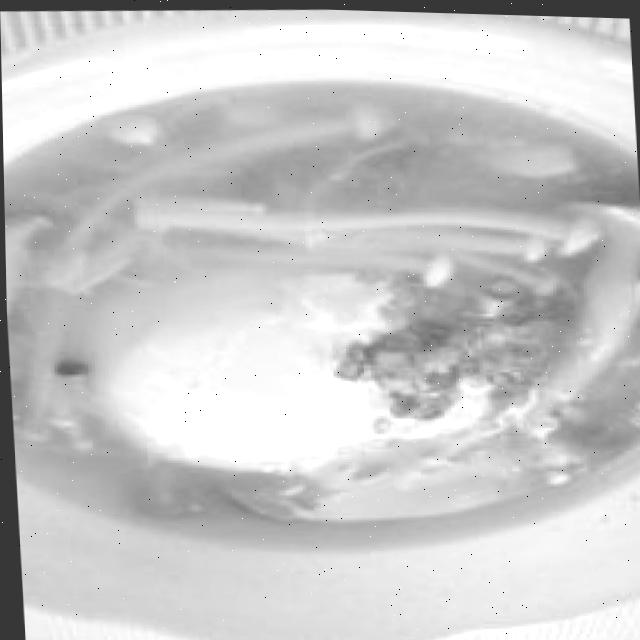汤锅炖物: (0, 22, 640, 640)
